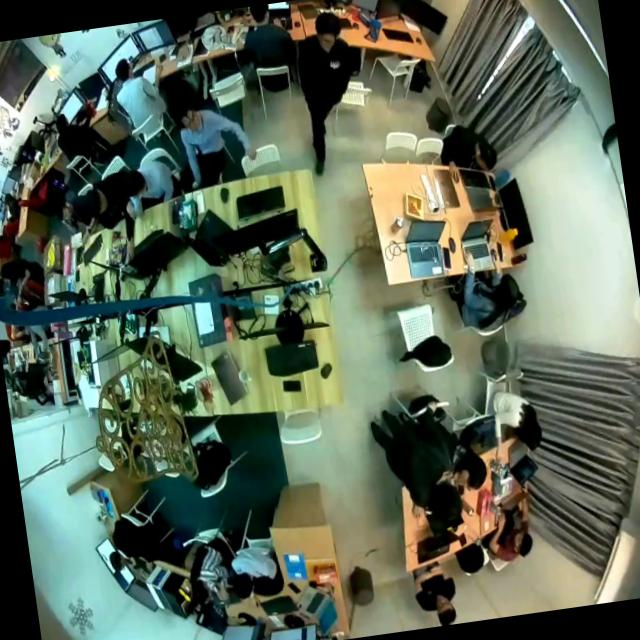employee_tag: (329, 58, 343, 72)
